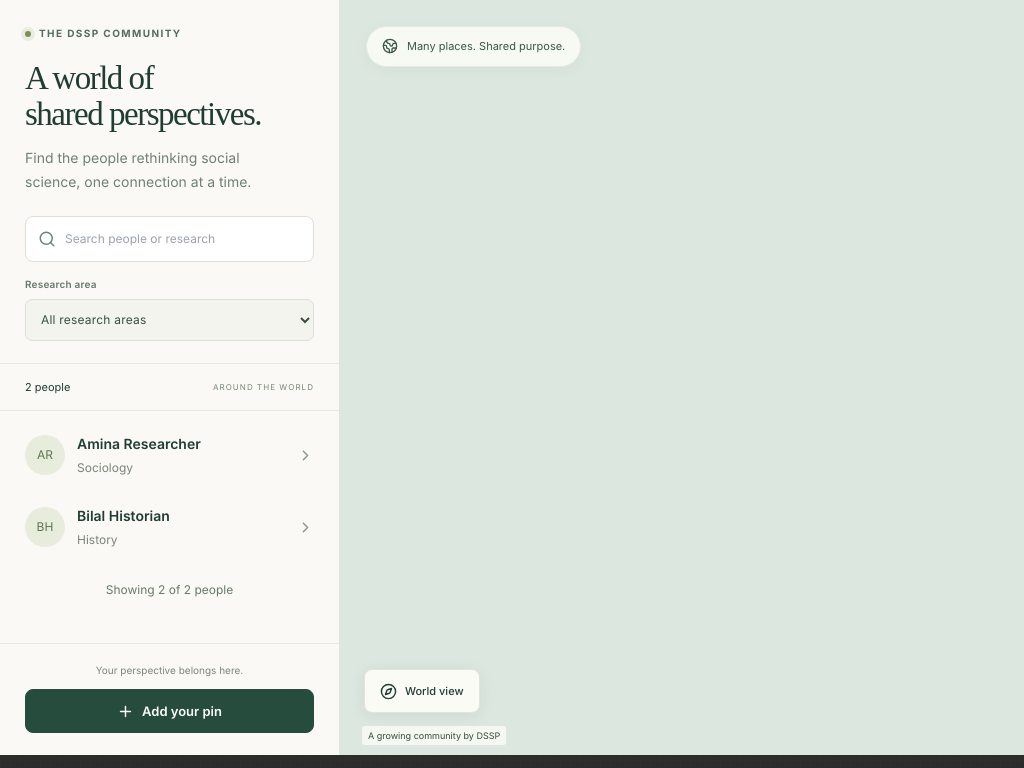
Test case: community map interactions › keeps the form and entered details when the existing action does not save a row
Expected: the button "AR Amina Researcher Sociology" is shown, [13,419,326,491]
Click the button "Add your pin" at (170,711), box [25,689,314,733]
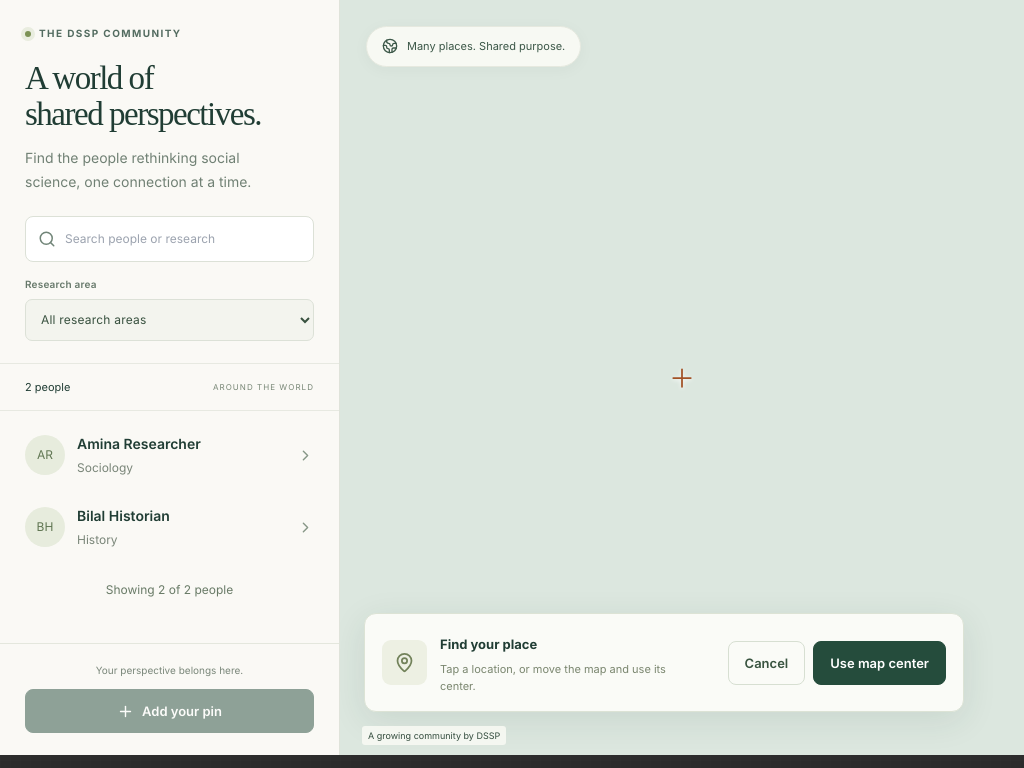
Click the button "Use map center" at (880,663), box [813,641,946,685]
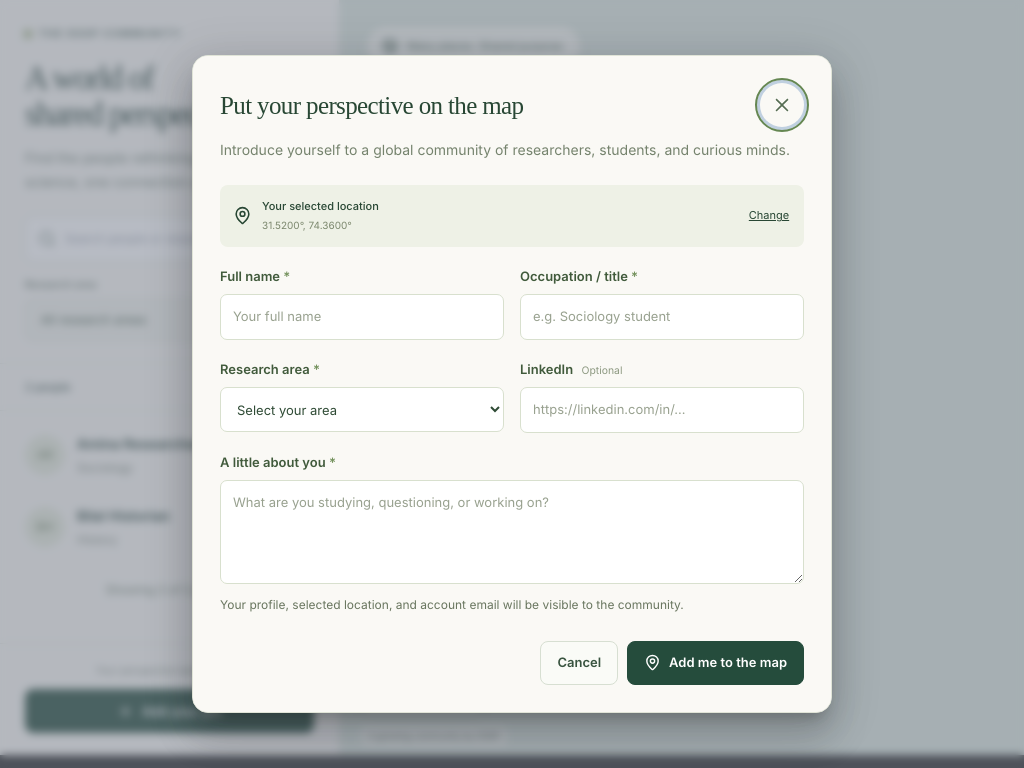
Expected: the dialog "Put your perspective on the map" is shown, [192,56,832,713]
Type "New Researcher" into the field labelled "Full name *" at (362,317), box [220,294,504,340]
Type "Student" into the field labelled "Occupation / title *" at (662,317), box [520,294,804,340]
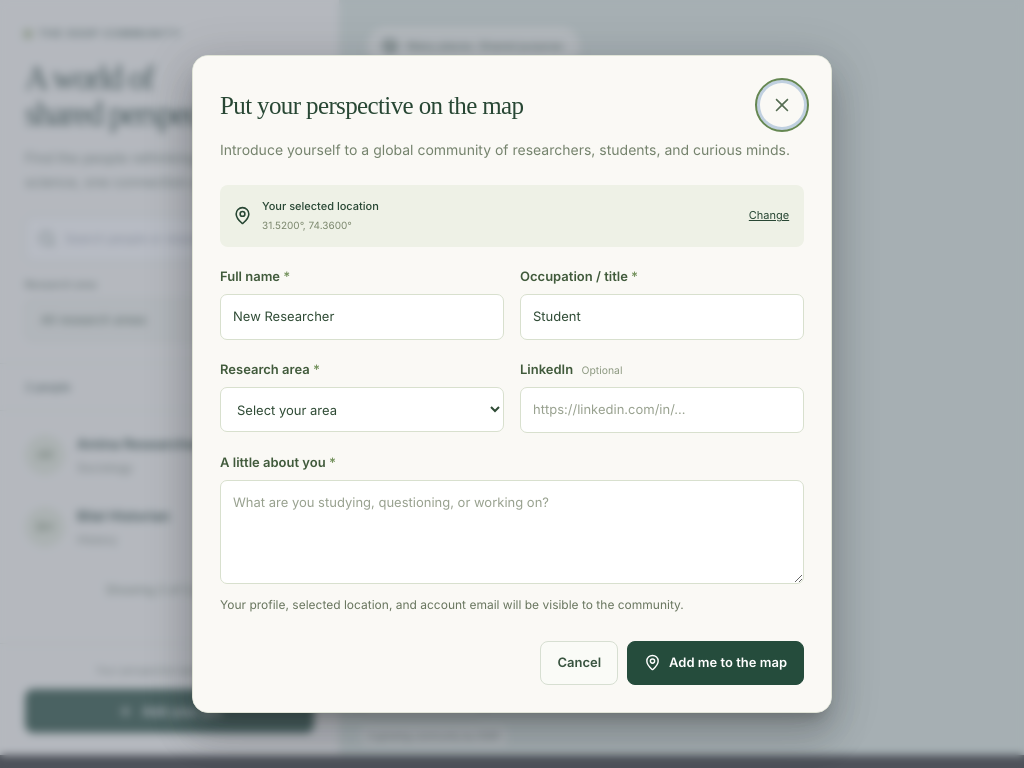
Select "Sociology" in the dropdown labelled "Research area *" at (362,410), box [220,387,504,432]
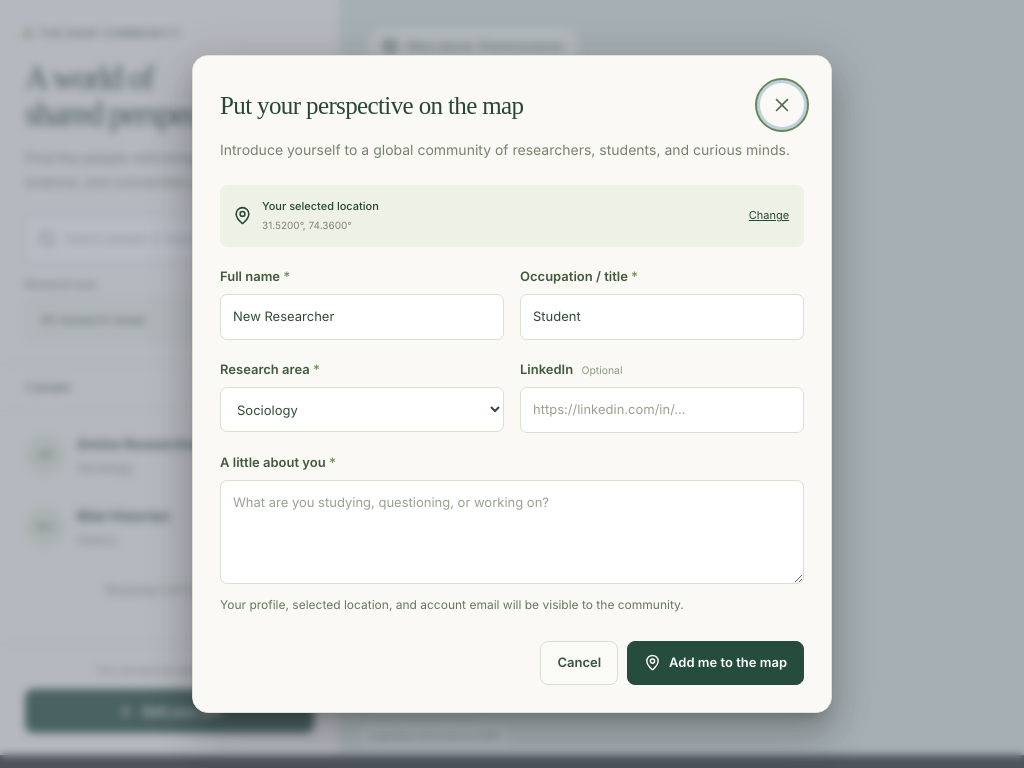
Type "My research summary." into the text box labelled "A little about you *" at (512,532), box [220,480,804,584]
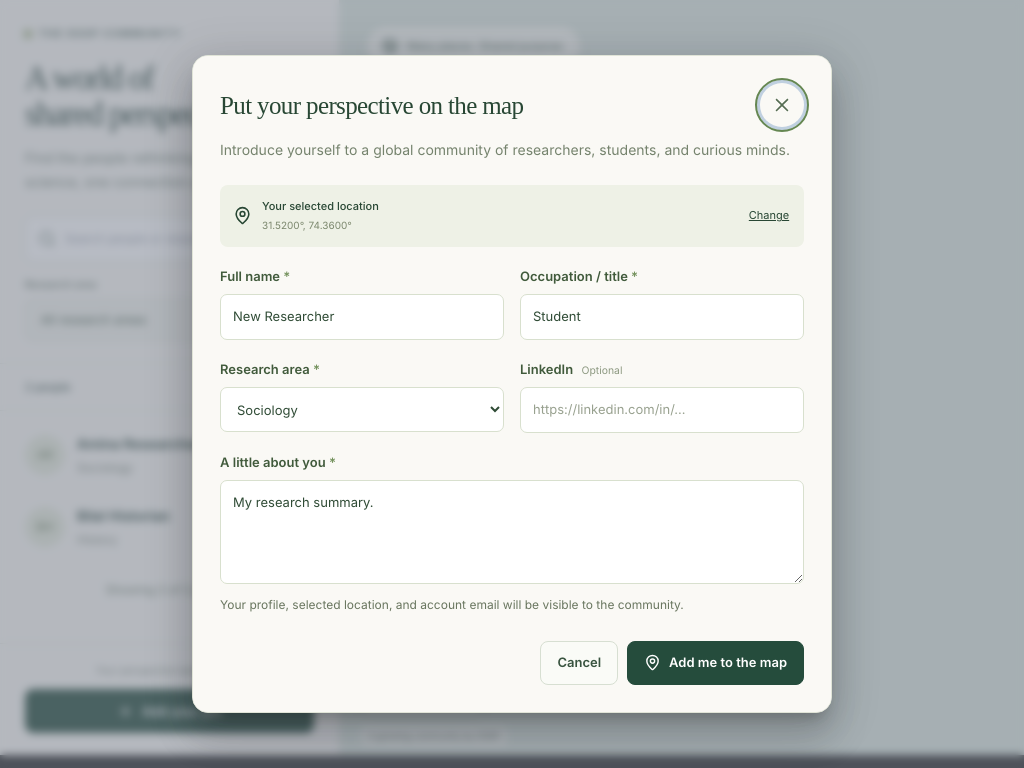
Submit the form named "Add me to the map", box [220,138,804,685]
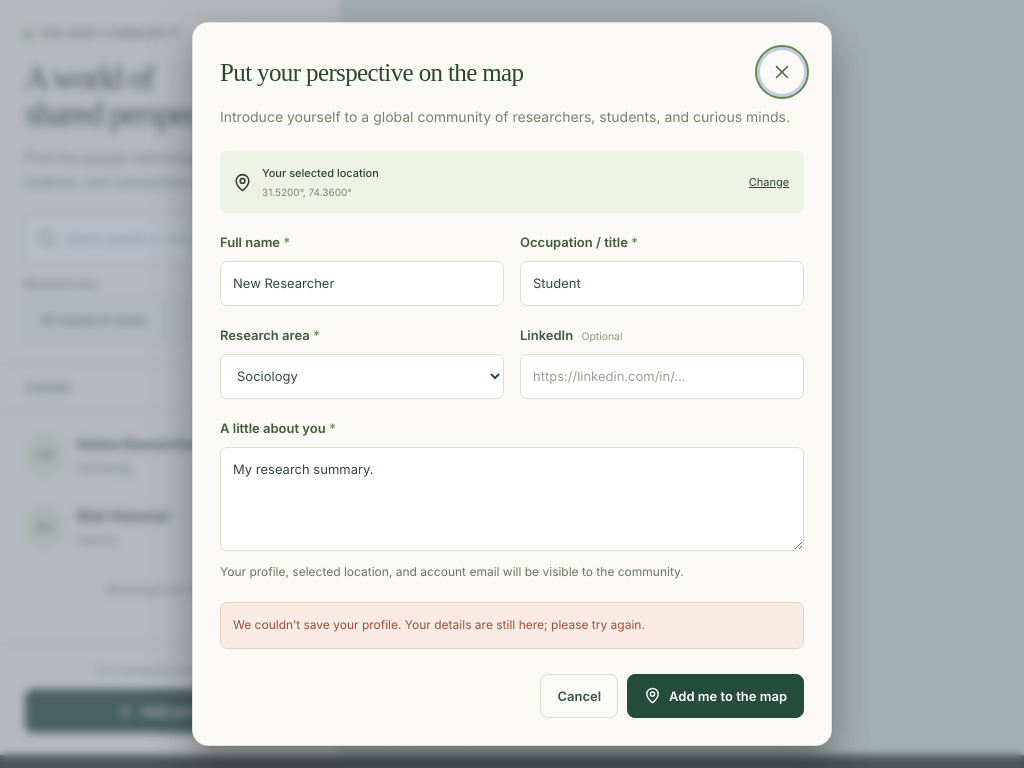
Expected: the dialog is shown, [192,22,832,746]
Expected: the message "We couldn’t save your profile. Your details are still here; please try again." is shown, [220,602,804,649]
